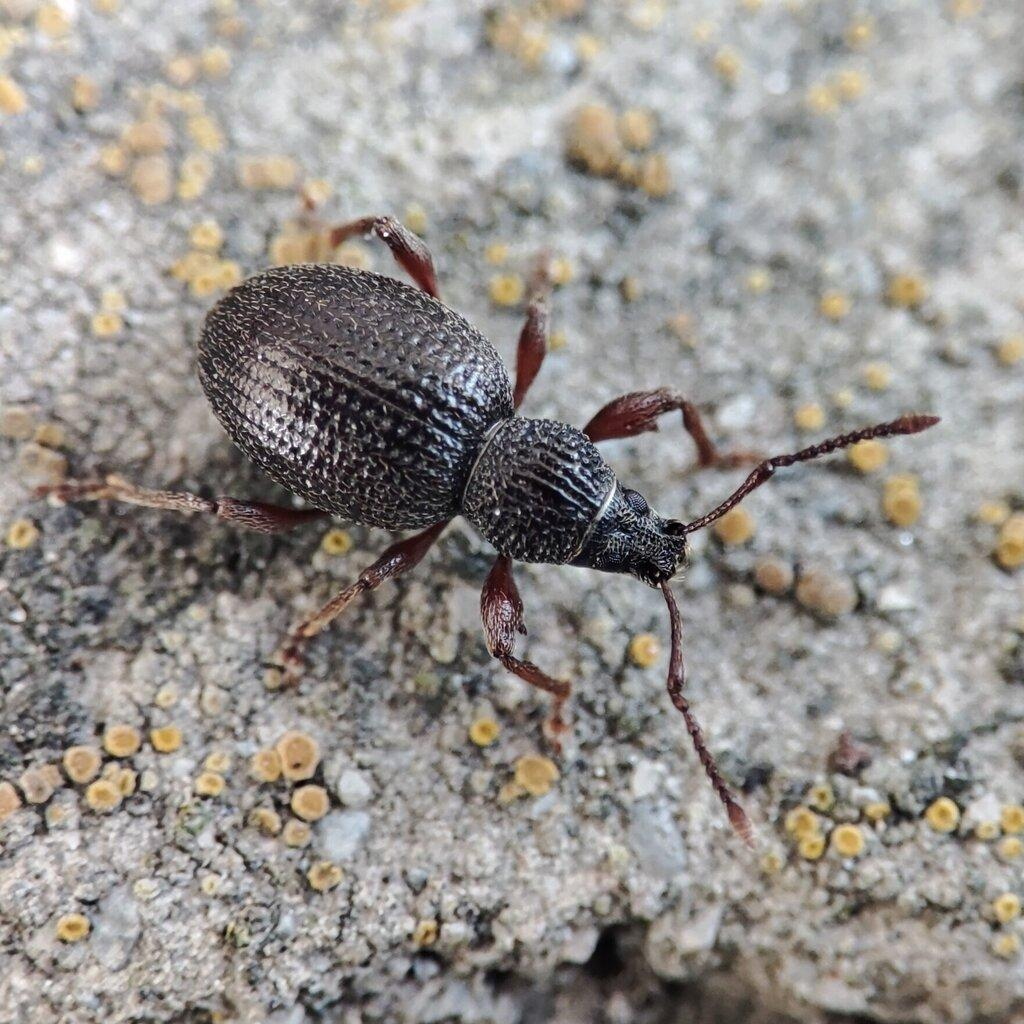weevils: (0, 134, 1010, 907)
